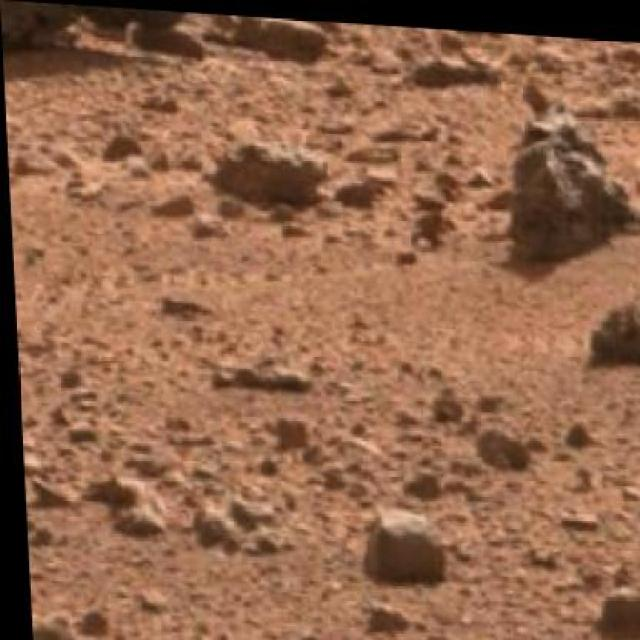rock: (502, 132, 633, 266), (0, 0, 206, 68), (210, 132, 336, 211), (351, 504, 443, 582), (582, 285, 638, 360), (594, 562, 638, 636)
